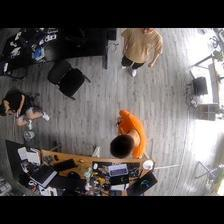normal: (119, 27, 163, 77), (110, 108, 145, 159)
